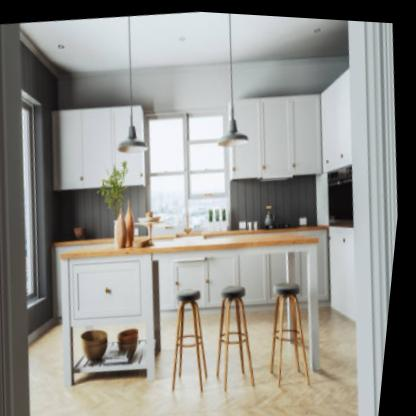Cabinet: (157, 241, 314, 308), (54, 103, 149, 190), (234, 90, 325, 176)
Window: (142, 109, 242, 231)
